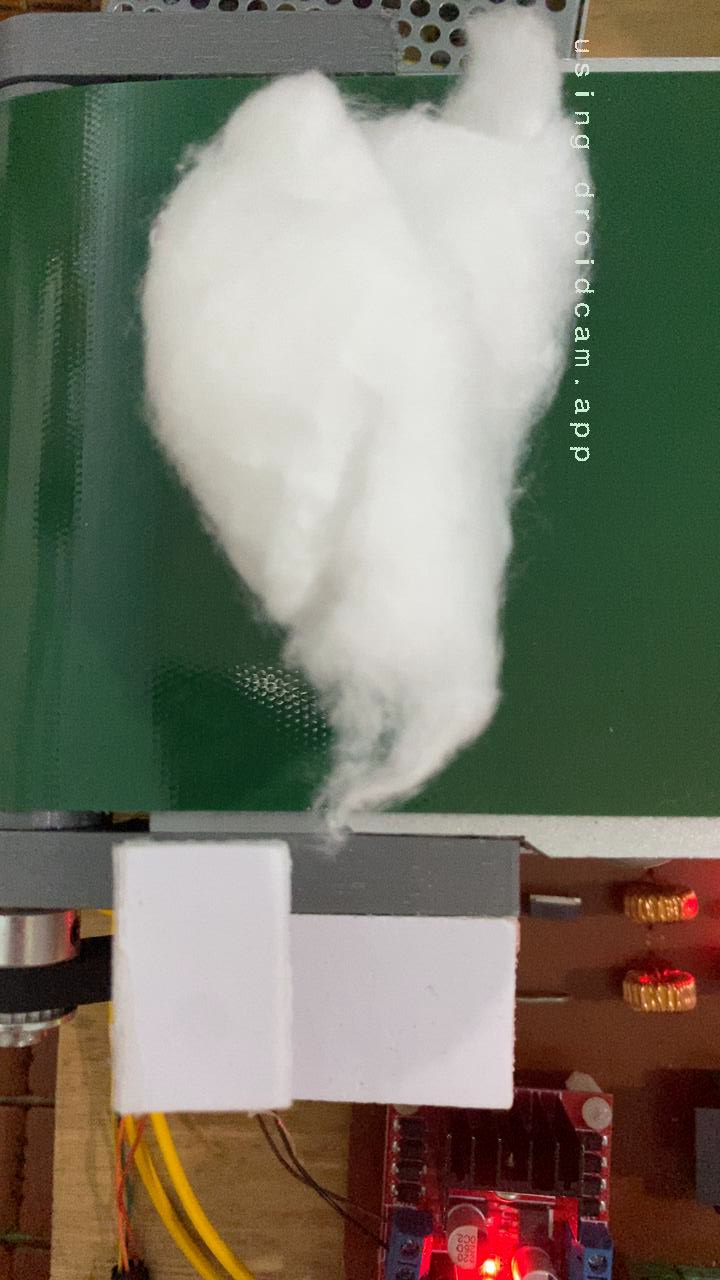cotton: (131, 75, 603, 812)
